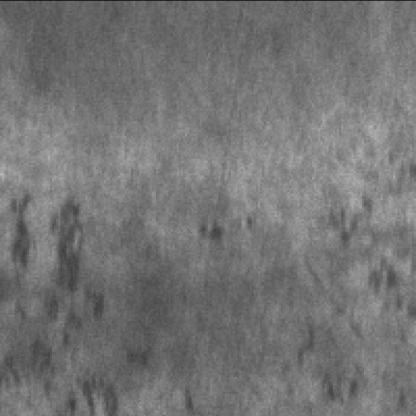rolled-in_scale: (287, 152, 408, 412), (0, 178, 98, 410)
